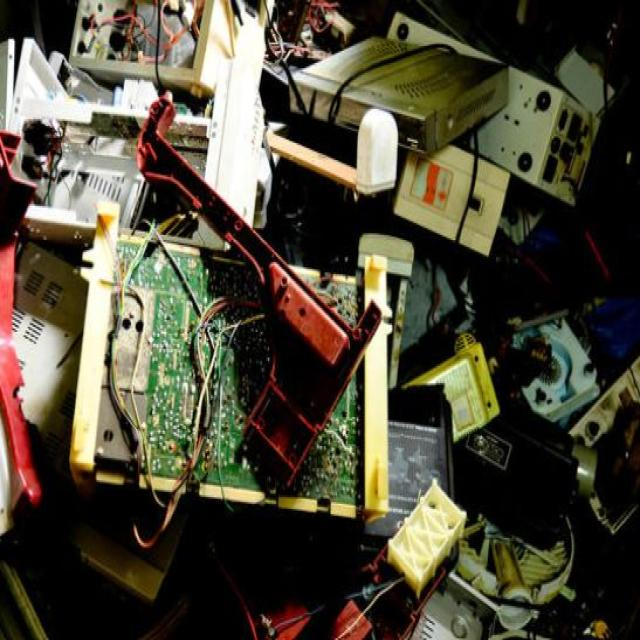electronic: (69, 186, 465, 612)
